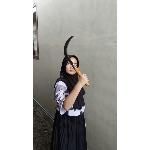Celurit: (61, 34, 93, 88)
